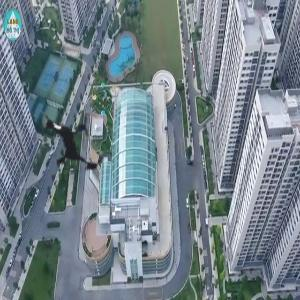drone: (15, 81, 136, 202)
